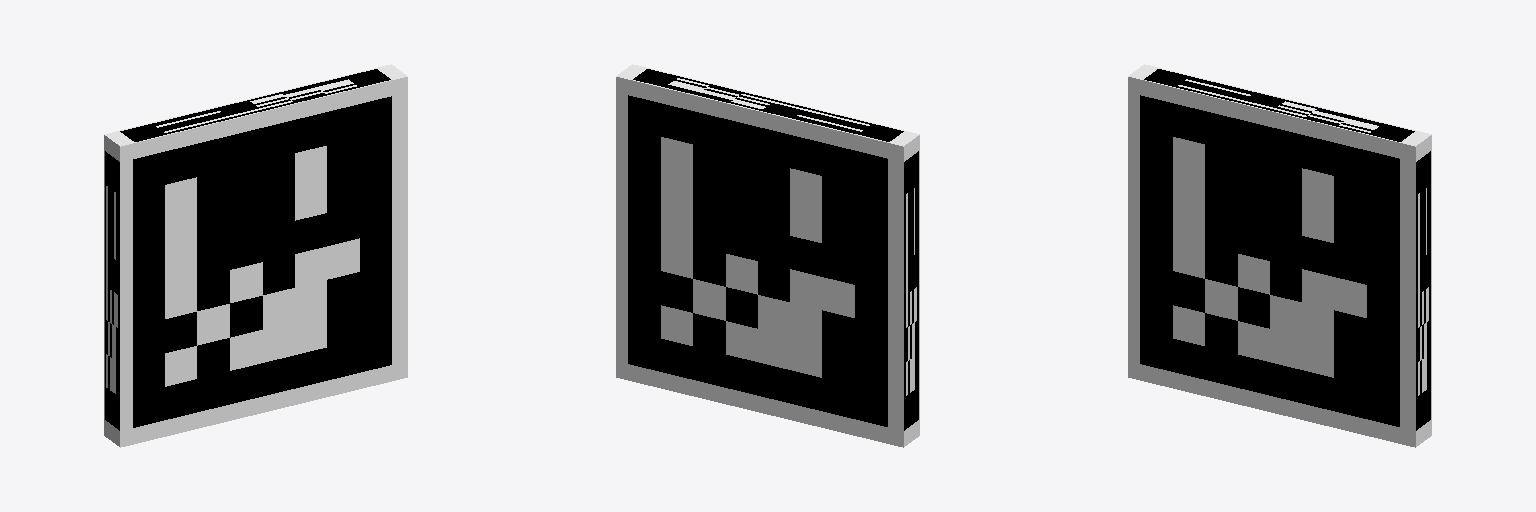
The picture shows the model from 3 angles: view 1: azimuth 30°, elevation 25°; view 2: azimuth 150°, elevation 25°; view 3: azimuth 330°, elevation 25°; orthographic projection.
Visible parts, largest first — view 1: Cube; view 2: Cube; view 3: Cube.
Boxes of the visible parts, x1,y1,x2,y2 form: Cube: [104, 64, 407, 447]; Cube: [616, 64, 919, 447]; Cube: [1128, 64, 1431, 447].
Size of the model in its own units: 2 by 2 by 0.2.
1 materials, 1 textured.